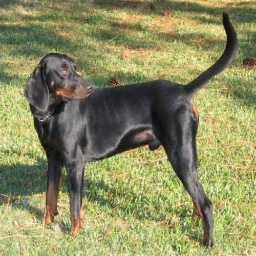dog: (24, 13, 239, 249)
